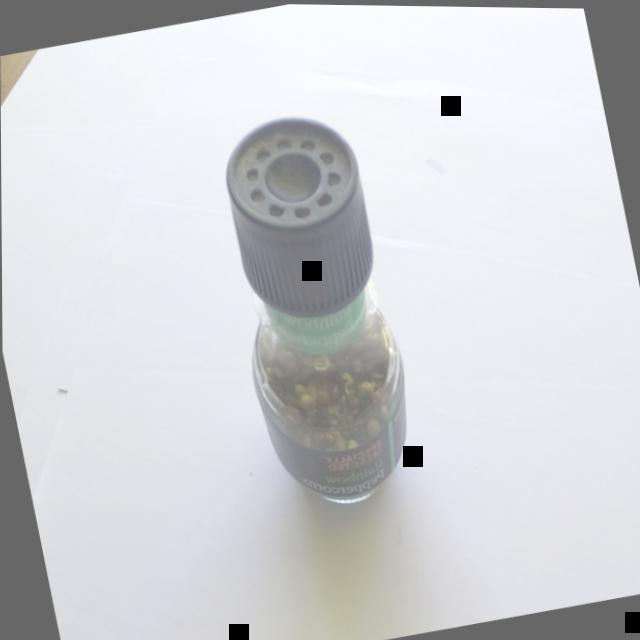Blackpepper: (183, 89, 441, 539)
